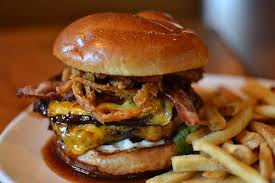hamburger: (50, 7, 206, 177)
